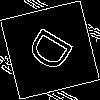D: (25, 25, 83, 80)
